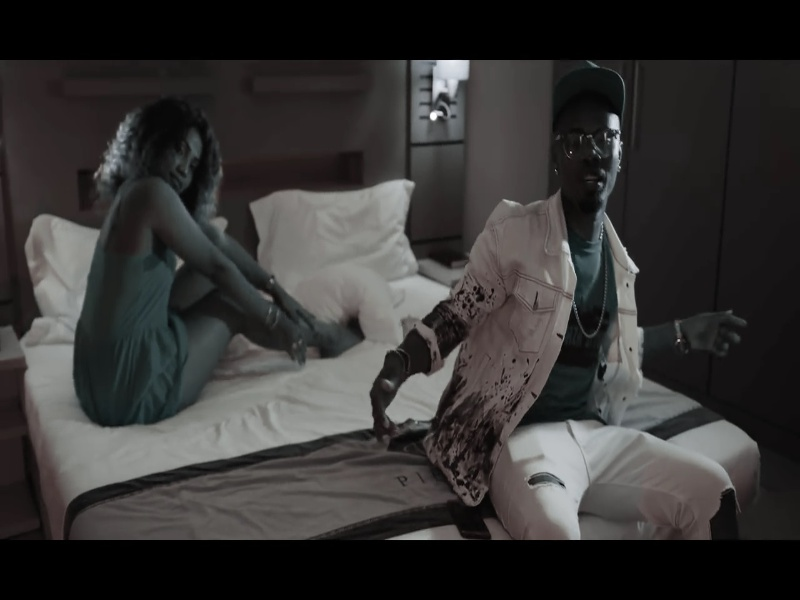TsisyArotava: (543, 67, 641, 229), (153, 106, 213, 200)
